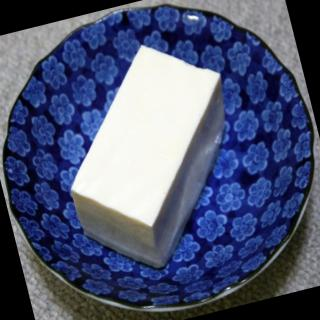Tahu: (18, 23, 269, 276)
